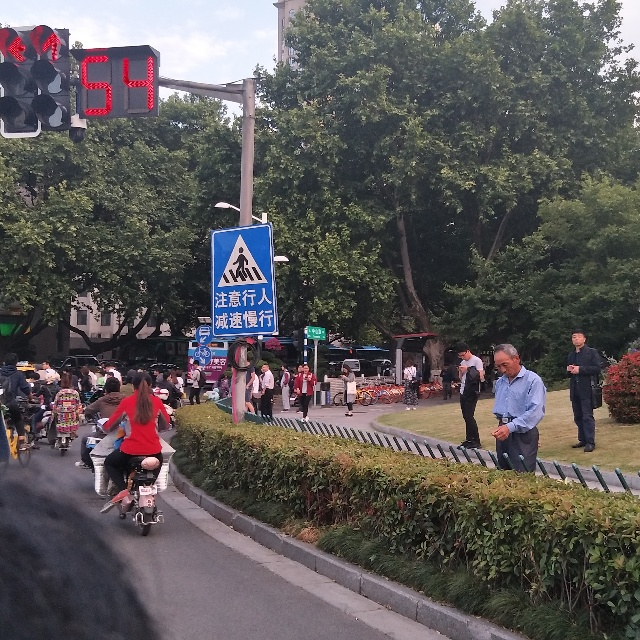crosswalk: (213, 234, 273, 292)
